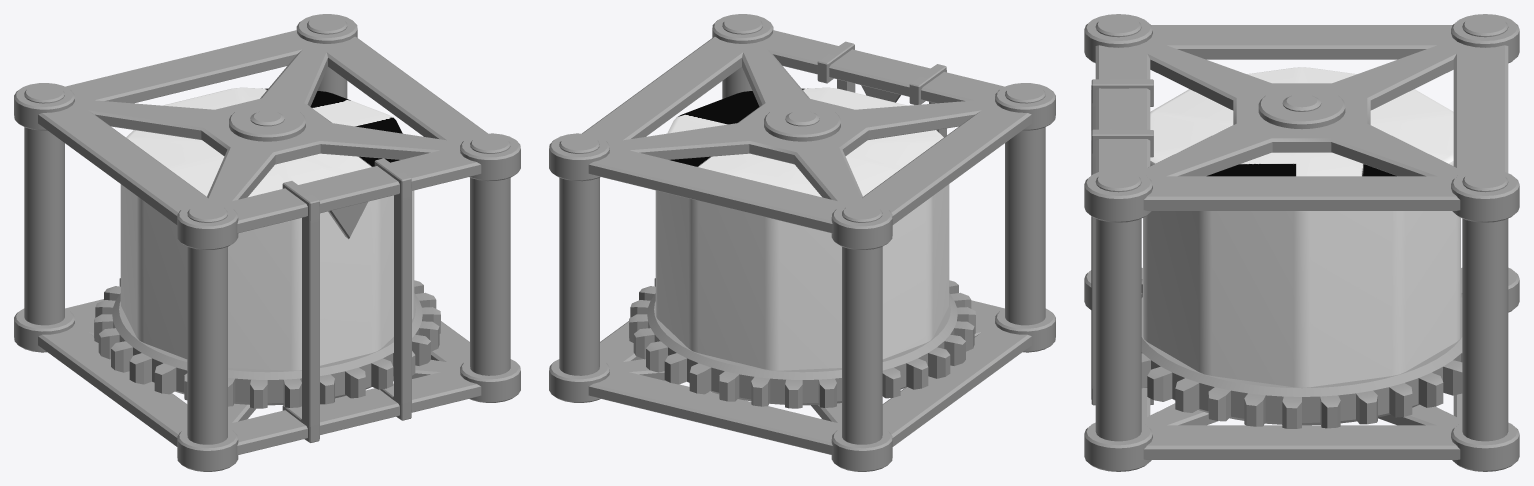
The model's file is MM_GPE_Creep.fbx.
The picture shows the model from 3 angles, left to right: view 1: azimuth 30°, elevation 25°; view 2: azimuth 150°, elevation 25°; view 3: azimuth 270°, elevation 25°; orthographic projection. The views are drawn at different scales.
Visible parts, largest first — view 1: cylinder_main, plate_top, plat_bottom, cylinder_fr, cylinder_fl, cylinder_bl, pCube2, pCube3, cylinder_middle, cylinder_br; view 2: cylinder_main, plate_top, plat_bottom, cylinder_br, cylinder_bl, cylinder_fl, cylinder_middle, cylinder_fr, pCube3, pCube2; view 3: cylinder_main, plate_top, plat_bottom, cylinder_fr, cylinder_br, cylinder_middle, pCube3, pCube2, cylinder_fl, cylinder_bl, cylinder_axis.
Part boxes in pixels (x1,y1,x2,y2): cylinder_main: (94,87,440,408); plate_top: (14,14,520,249); plat_bottom: (14,299,520,471); cylinder_fr: (470,134,510,375); cylinder_fl: (187,203,227,444); cylinder_bl: (24,84,64,325); pCube2: (282,181,319,442); pCube3: (374,158,411,420); cylinder_middle: (229,103,305,141); cylinder_br: (307,15,347,98); cylinder_main: (629,87,975,408); plate_top: (549,14,1055,249); plat_bottom: (549,300,1055,471); cylinder_br: (559,134,599,375); cylinder_bl: (842,203,882,444); cylinder_fl: (1005,84,1045,325); cylinder_middle: (764,103,840,141); cylinder_fr: (722,15,762,98); pCube3: (817,41,855,92); pCube2: (909,64,946,137); cylinder_main: (1141,67,1462,428); plate_top: (1084,14,1519,222); plat_bottom: (1084,267,1519,471); cylinder_fr: (1095,170,1141,441); cylinder_br: (1462,170,1508,441); cylinder_middle: (1258,86,1345,129); pCube3: (1091,129,1153,405); pCube2: (1091,79,1153,135); cylinder_fl: (1095,15,1141,37); cylinder_bl: (1462,15,1508,37); cylinder_axis: (1282,94,1321,111).
Bounding box in the file's own units: 1.9 × 1.37 × 1.9.
